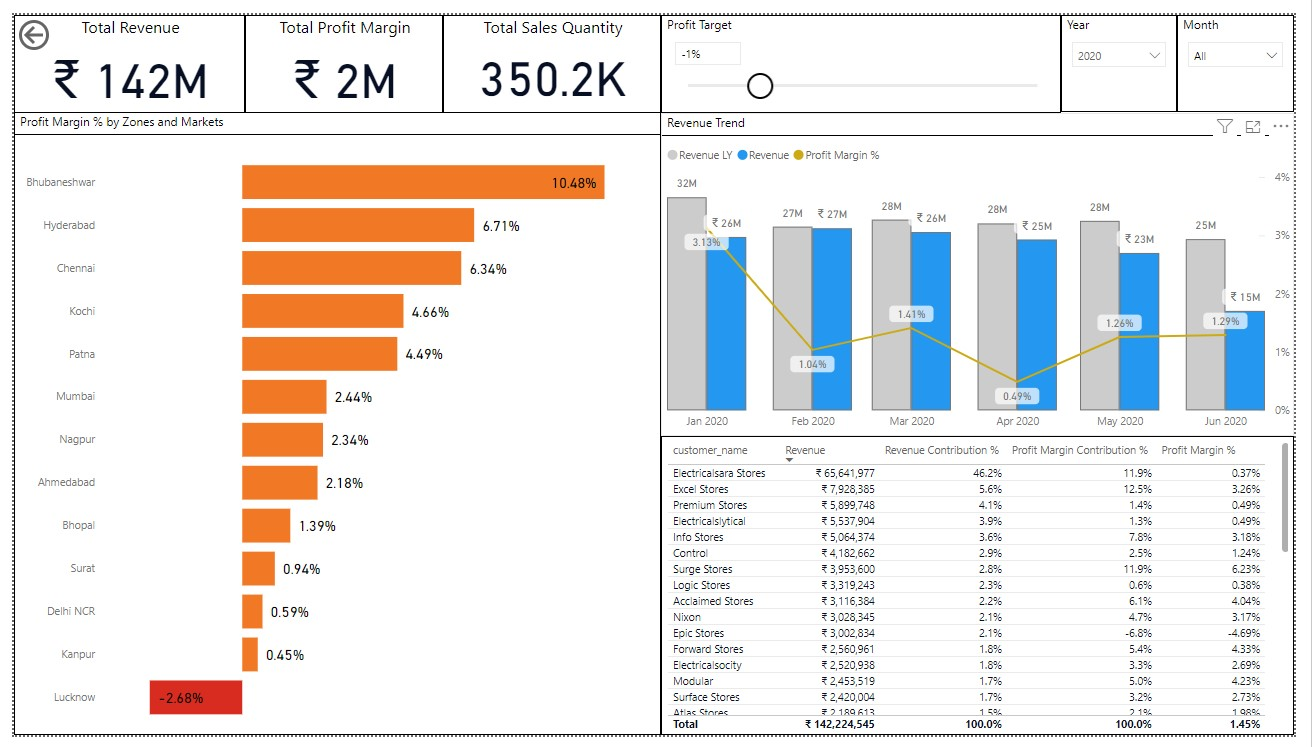

Layout of this report page (visuals, bound fields, positions):
{"tool":"powerbi","page":{"name":"Performance Insights","canvas":[1280,720],"ordinal":2},"visuals":[{"type":"card","title":"Total Revenue","fields":{"Values":["BaseMeasures.Revenue"]},"box":[0,0,230.5,98.2],"z":0},{"type":"card","title":"Total Sales Quantity","fields":{"Values":["BaseMeasures.Sales Qty"]},"box":[428.9,0,217.9,98.2],"z":1000},{"type":"tableEx","title":"Top 5 Customers by Revenue","fields":{"Values":["sales customers.custmer_name","BaseMeasures.Revenue","BaseMeasures.Revenue Contribution %","BaseMeasures.Profit Margin Contribution %","BaseMeasures.Profit Margin %"]},"box":[646.8,421.2,633.2,298.6],"z":2000},{"type":"slicer","title":"Year","fields":{"Values":["sales date.year"]},"box":[1046.5,0,116.7,96.8],"z":3000},{"type":"slicer","title":"Month","fields":{"Values":["sales date.month_name"]},"box":[1163.3,0,116.7,96.8],"z":4000},{"type":"lineClusteredColumnComboChart","title":"Revenue Trend","fields":{"Category":["sales date.cy_date"],"Y":["BaseMeasures.Revenue LY","BaseMeasures.Revenue"],"Y2":["BaseMeasures.Profit Margin %"]},"box":[646.8,98.2,633.2,322.9],"z":5000},{"type":"card","title":"Total Profit Margin","fields":{"Values":["BaseMeasures.Total Profit Margin"]},"box":[230.5,0,198.4,98.2],"z":6000},{"type":"barChart","title":"Profit Margin % by Zones and Markets","fields":{"Category":["sales markets.zone","sales markets.markets_name"],"Y":["BaseMeasures.Profit Margin %"]},"box":[0,97.3,646.8,622.5],"z":7000},{"type":"actionButton","box":[0,0,100,40],"z":8000},{"type":"slicer","title":"Profit Target","fields":{"Values":["Profit Target.Profit Target"]},"box":[646.8,0,399.8,98.2],"z":9000}]}

Visuals, with their boxes in screenshot pixels (x1, y1, x2, y2), scaled from the page's 1280x720 canvas onto the 1312x747 screenshot:
"Total Revenue" card: BBox(0, 0, 236, 102)
"Total Sales Quantity" card: BBox(440, 0, 663, 102)
"Top 5 Customers by Revenue" tableEx: BBox(663, 437, 1311, 746)
"Year" slicer: BBox(1073, 0, 1192, 100)
"Month" slicer: BBox(1192, 0, 1311, 100)
"Revenue Trend" lineClusteredColumnComboChart: BBox(663, 102, 1311, 437)
"Total Profit Margin" card: BBox(236, 0, 440, 102)
"Profit Margin % by Zones and Markets" barChart: BBox(0, 101, 663, 746)
actionButton: BBox(0, 0, 102, 42)
"Profit Target" slicer: BBox(663, 0, 1073, 102)
